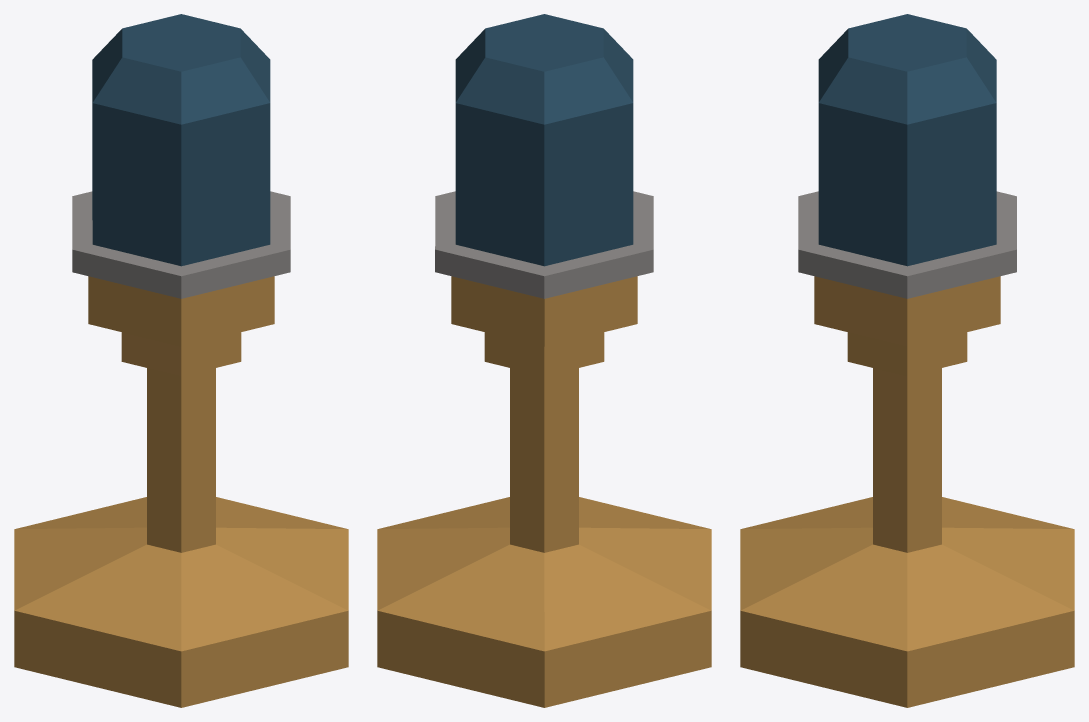
File: SM_Prop_Runway_Light_01.glb
3 renders of one model, left to right at view 1: azimuth 30°, elevation 25°; view 2: azimuth 150°, elevation 25°; view 3: azimuth 270°, elevation 25°, orthographic.
Parts seen in each view (by area): view 1: SM_Prop_Runway_Light_01; view 2: SM_Prop_Runway_Light_01; view 3: SM_Prop_Runway_Light_01.
Part boxes in pixels (box(x1,y1,x2,y2)): SM_Prop_Runway_Light_01: box(14, 14, 348, 707); SM_Prop_Runway_Light_01: box(377, 14, 711, 707); SM_Prop_Runway_Light_01: box(740, 14, 1074, 707).
Bounding box in the file's own units: 0.2929 × 0.4889 × 0.2536.
1 material, 1 textured.
